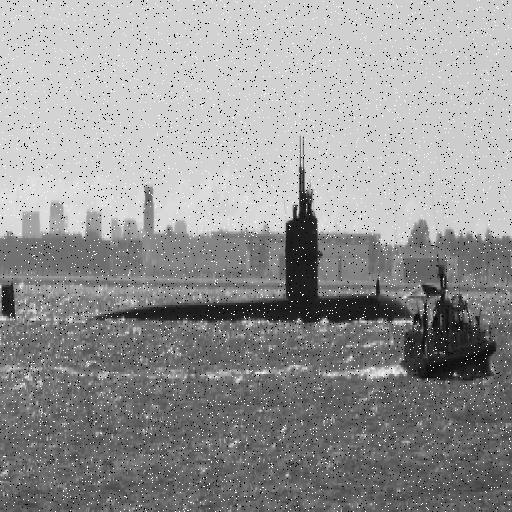submarine: (1, 136, 413, 319)
